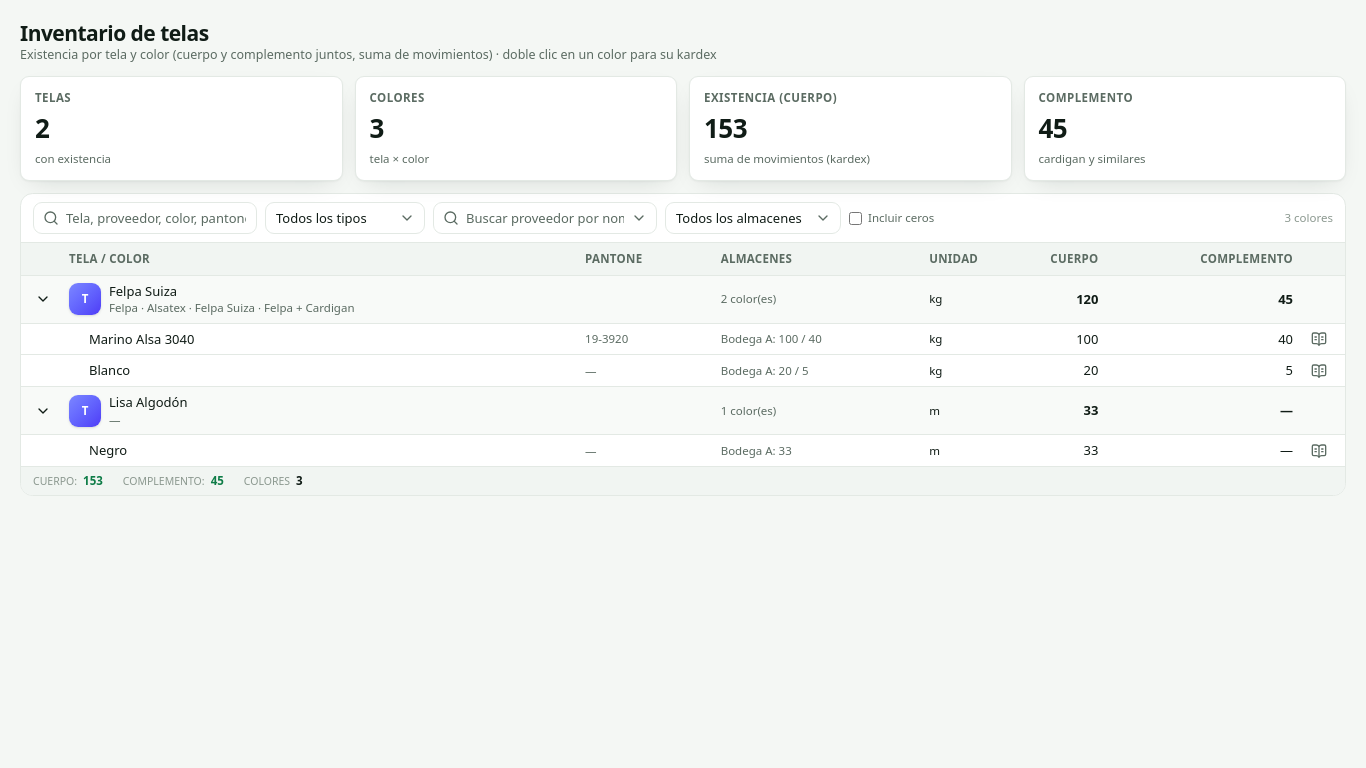
Test case: ExistenciasTelasColorPagina (A2 — inventario nuevo por color) › el doble clic en el renglón del color también abre el kardex
Double-click the row with test id "telas-color-fila-11".
double_click(683, 339)  # box [21, 323, 1345, 355]
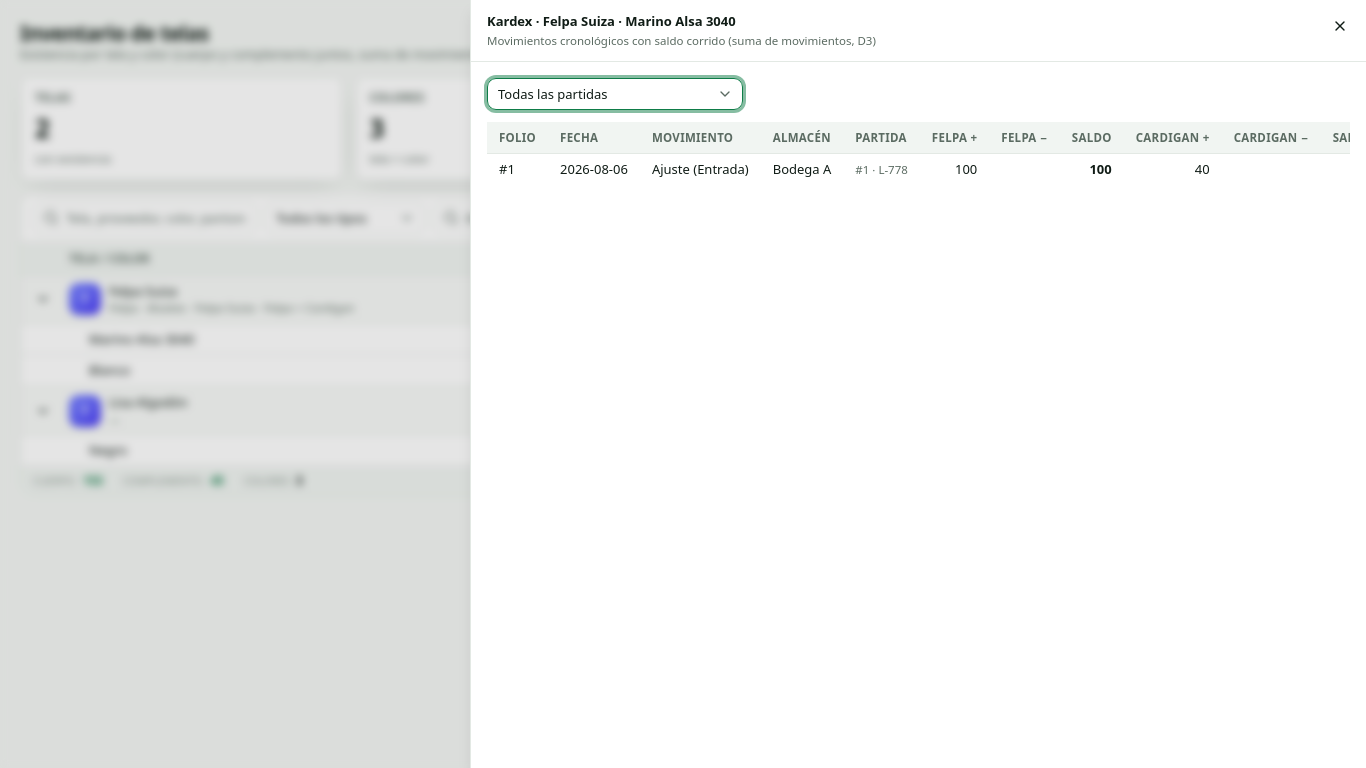
Expected: the heading "Kardex · Felpa Suiza · Marino Alsa 3040" is shown, [487, 12, 736, 30]
